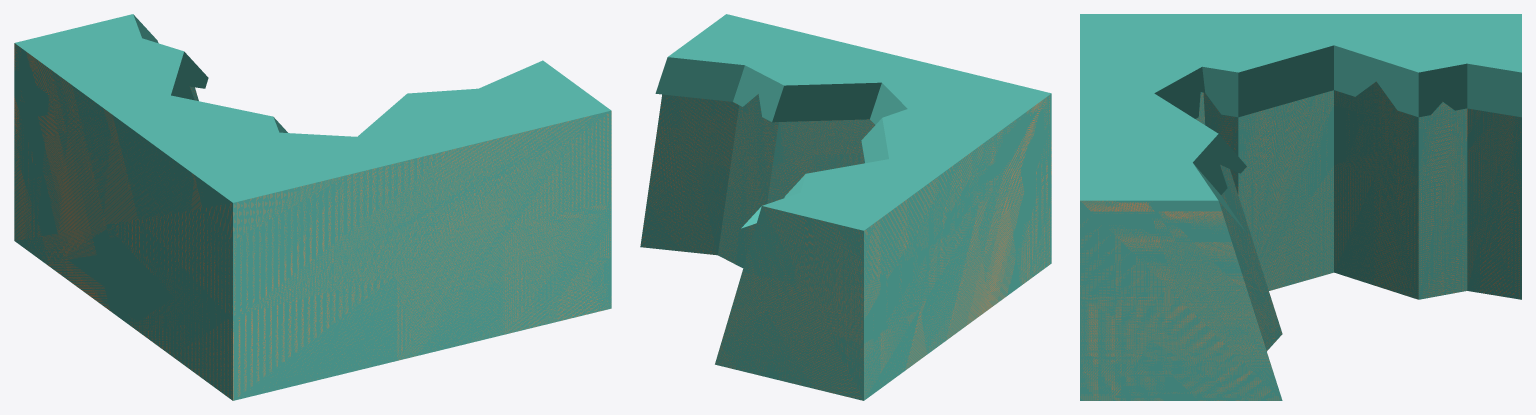
File: cliffBrown_halfCornerInner.obj
The picture shows the model from 3 angles, left to right: view 1: azimuth 30°, elevation 25°; view 2: azimuth 150°, elevation 25°; view 3: azimuth 270°, elevation 25°; orthographic projection. The views are drawn at different scales.
Parts seen in each view (by area): view 1: cliffBrown_halfCornerInner; view 2: cliffBrown_halfCornerInner; view 3: cliffBrown_halfCornerInner.
Boxes of the visible parts, box(x1,y1,x2,y2) form: cliffBrown_halfCornerInner: box(14, 14, 611, 400); cliffBrown_halfCornerInner: box(640, 14, 1051, 400); cliffBrown_halfCornerInner: box(1080, 14, 1521, 400).
Bounding box in the file's own units: 10 × 5 × 10.
